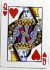queen: (1, 1, 48, 68)
